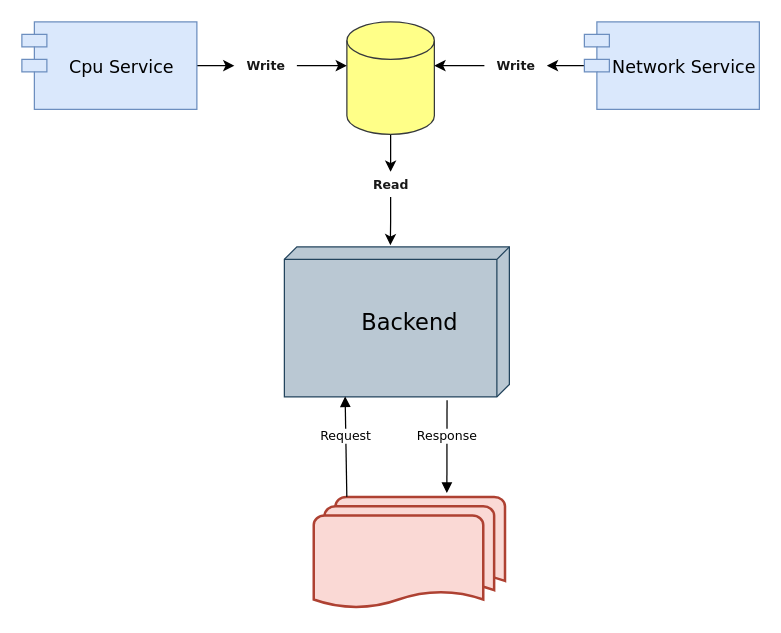
This 781x633 diagram has some shape labels left out. The shapes that lost their labels are listed below. From the top down, each one's centre as x and y in pixels, then its label:
[390,77]: Redis
[409,552]: Client
